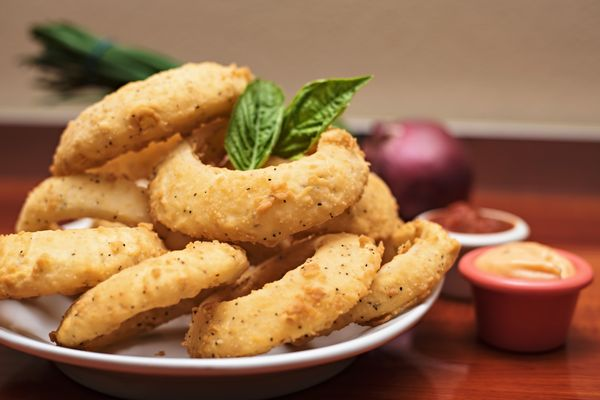soup: (17, 58, 459, 357)
sushi: (458, 240, 594, 353)
